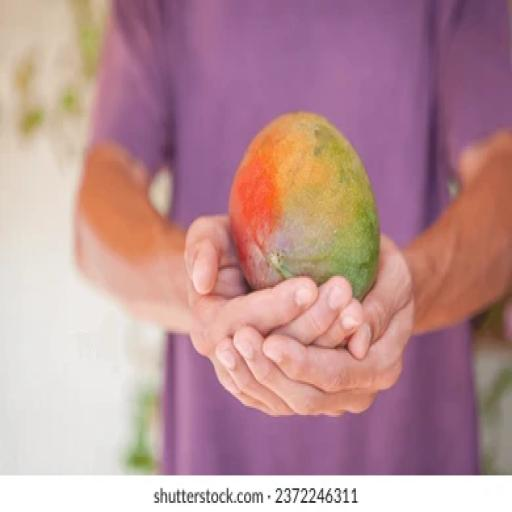mango: (229, 112, 379, 299)
